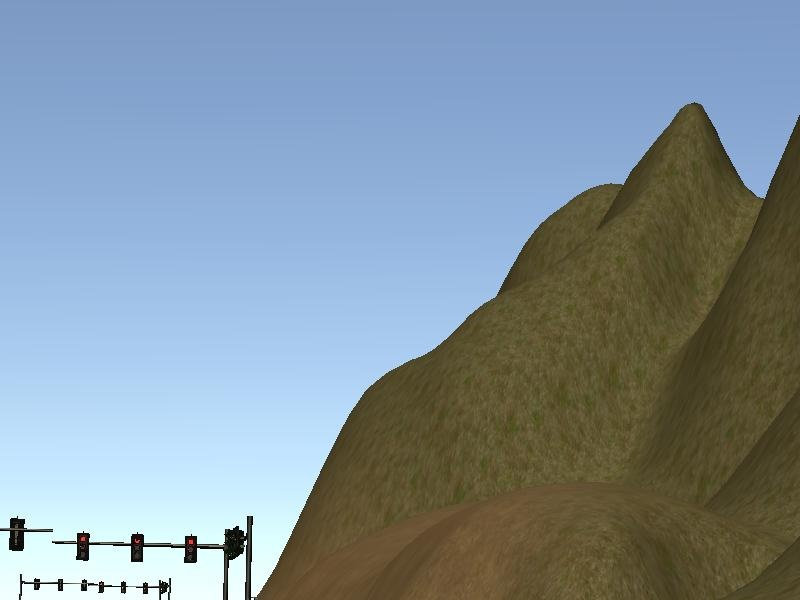traffic_light_red: (64, 530, 227, 564)
